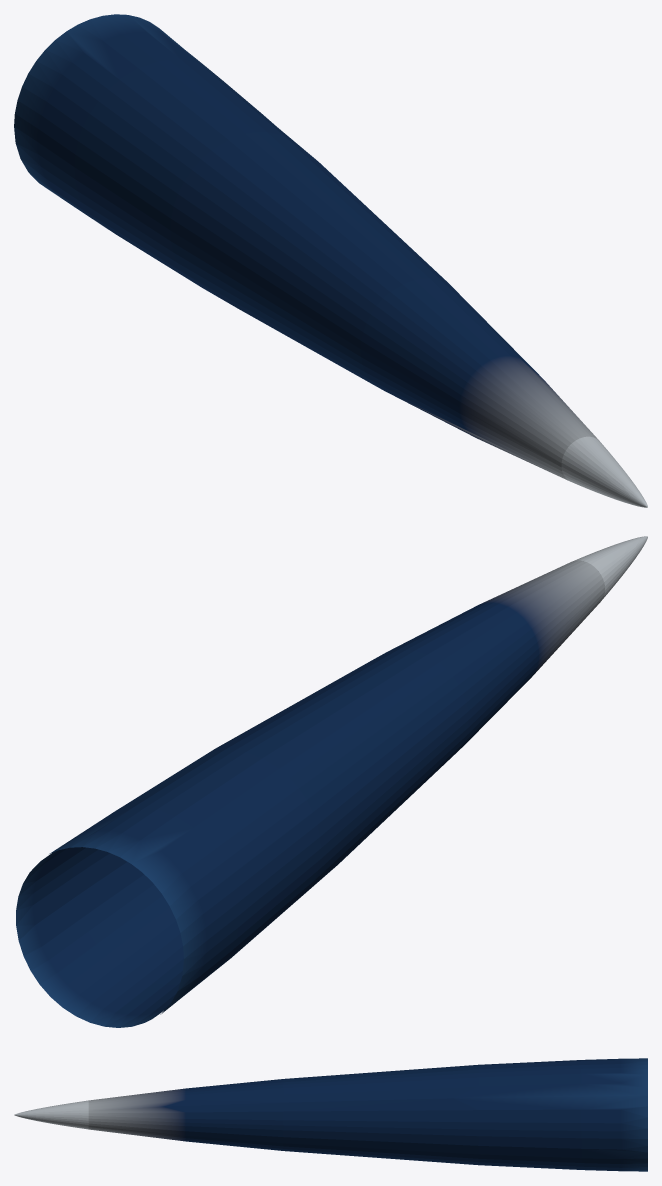
The model's file is atlas-nose.glb.
3 renders of one model, top to bottom at view 1: azimuth 30°, elevation 25°; view 2: azimuth 150°, elevation 25°; view 3: azimuth 270°, elevation 25°, orthographic. The views are drawn at different scales.
Parts seen in each view (by area): view 1: coifa, Body1; view 2: coifa, Body1; view 3: coifa, Body1.
Boxes of the visible parts, <box> form: coifa: <box>14,14,598,480</box>; Body1: <box>561,436,647,507</box>; coifa: <box>16,560,604,1027</box>; Body1: <box>573,536,647,599</box>; coifa: <box>88,1058,647,1171</box>; Body1: <box>14,1100,88,1129</box>.
Bounding box in the file's own units: 0.152 × 0.1518 × 0.85.
